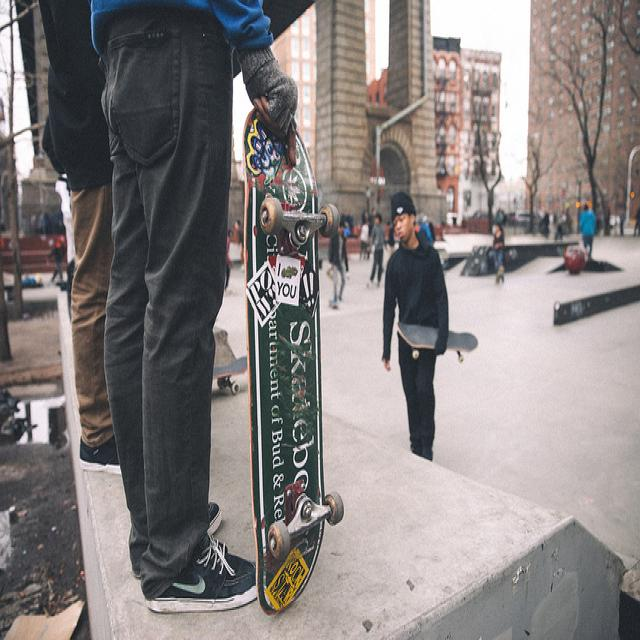Vehicle: (503, 212, 518, 228), (517, 210, 531, 225)
